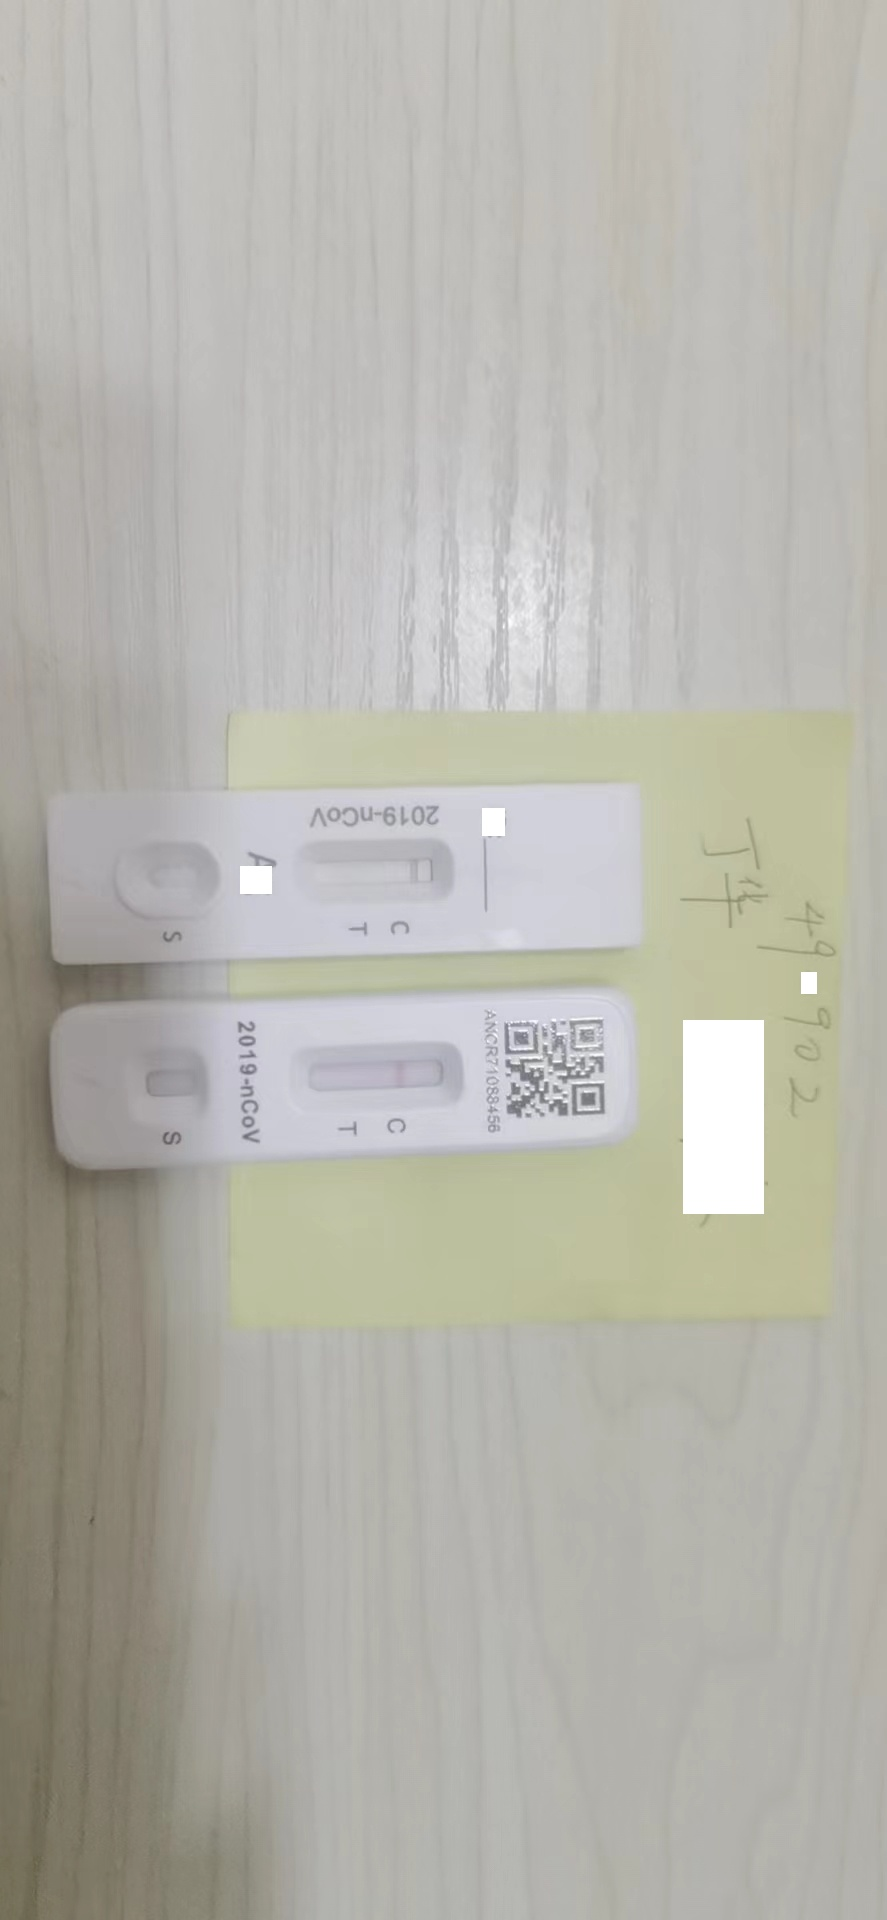negative: (294, 1046, 463, 1107), (292, 840, 459, 898)
